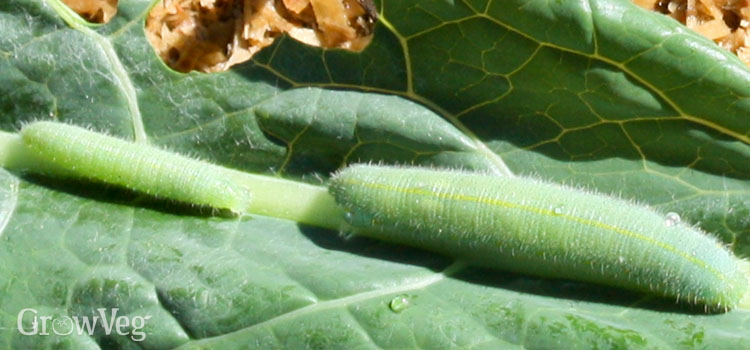Armyworm: (315, 140, 744, 323), (17, 110, 230, 232)
